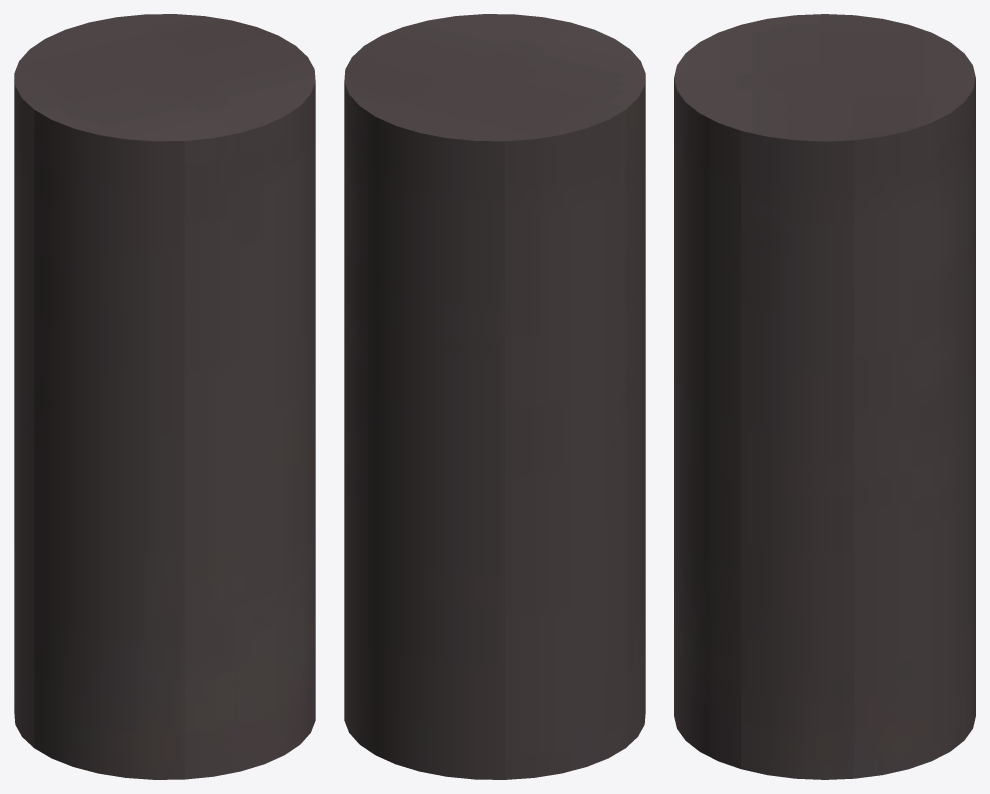
File: joystick__joystick_stem.glb
3 views of the same model, side by side, from view 1: azimuth 30°, elevation 25°; view 2: azimuth 150°, elevation 25°; view 3: azimuth 270°, elevation 25° (orthographic).
Parts seen in each view (by area): view 1: world; view 2: world; view 3: world.
Part boxes in pixels (x1,y1,x2,y2): world: (14,14,315,779); world: (344,14,645,779); world: (674,14,975,779).
Size of the model in its own units: 0.006 by 0.014 by 0.006.
1 material, 1 textured.
